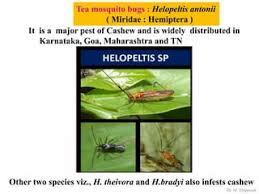Helopeltis-insect: (124, 88, 175, 105), (158, 146, 185, 169), (97, 140, 127, 156)
